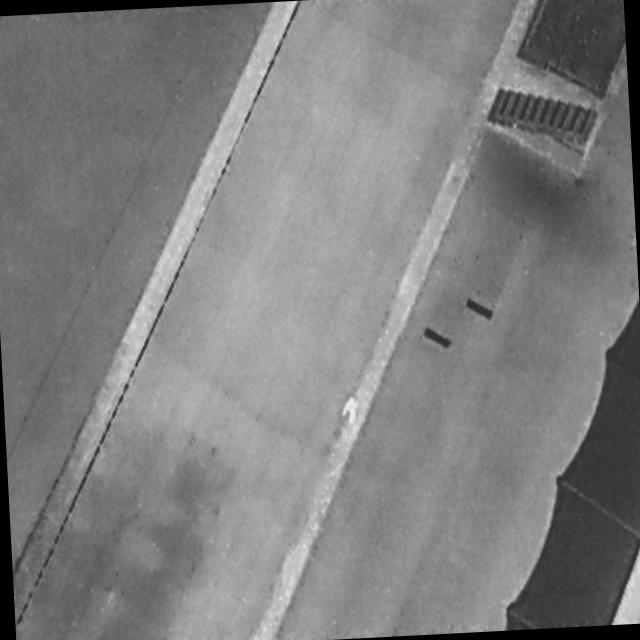person: (339, 392, 363, 433)
